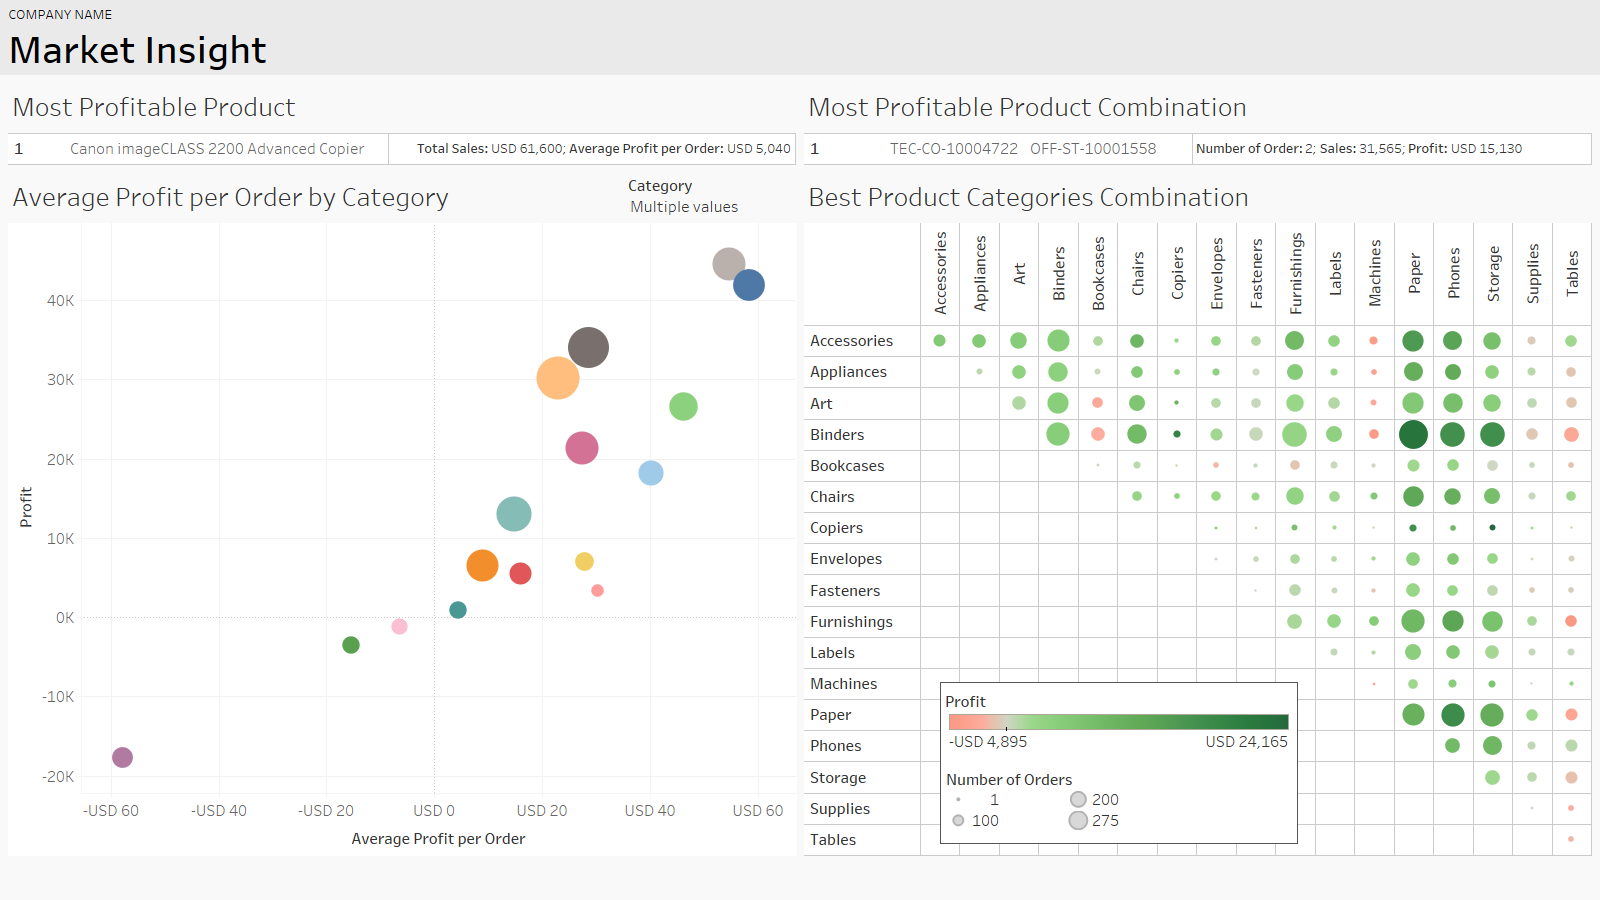

The page's visual inventory and layout, read from the dashboard file:
{"tool":"tableau","page":{"name":"Market Insight","canvas":[1600,900],"ordinal":1},"visuals":[{"type":"text","box":[0,0,1600,75]},{"type":"blank","box":[0,0,663.4,77.4]},{"type":"text","box":[663.4,0,836.3,77.4]},{"type":"blank","box":[1499.7,0,100.3,77.4]},{"type":"blank","box":[0,77.4,72.5,68]},{"type":"text","box":[72.5,77.4,1527.5,68]},{"type":"worksheet","title":"Most Profit Product","mark":"Automatic","rows":["Calculation_517632483394850828","SUBCATEGORY"],"box":[4,79,796,90]},{"type":"worksheet","title":"Most Profit Product Combination","mark":"Automatic","rows":["Least pair (copy)_155374188590964738","Calculation_155374188590628865"],"box":[800,79,796,90]},{"type":"blank","box":[0,145.5,1600,5.2]},{"type":"text","box":[0,150.7,400,83.7]},{"type":"text","box":[400,150.7,400,83.7]},{"type":"text","box":[800,150.7,400,83.7]},{"type":"text","box":[1200,150.7,400,83.7]},{"type":"worksheet","title":"Average Profit","mark":"Circle","rows":["PROFIT"],"cols":["Calculation_517632483394850828"],"box":[4,169,796,691]},{"type":"worksheet","title":"Product Category Combination","mark":"Circle","rows":["Calculation_155374188619853827"],"cols":["Greatest Pair Category (copy)_155374188620038148"],"box":[800,169,796,691]},{"type":"filter","title":"Average Profit","param":"[federated.0ukujvq0t6tfha15fncxn1vepaob].[none:CATEGORY:nk]","box":[628,174,168,45]},{"type":"blank","box":[0,234.4,1600,9.4]},{"type":"text","box":[0,243.8,800,306.6]},{"type":"text","box":[800,243.8,800,612.2]},{"type":"text","box":[884.3,415.5,693.3,155.9]},{"type":"text","box":[0,550.5,800,305.6]},{"type":"text","box":[884.3,571.4,693.3,68]},{"type":"text","box":[884.3,639.4,693.3,68]},{"type":"legend","title":"Product Category Combination","param":"[federated.0ukujvq0t6tfha15fncxn1vepaob (copy)].[sum:PROFIT:qk]","box":[941,683,356,80]},{"type":"text","box":[884.3,707.5,693.3,142.3]},{"type":"legend","title":"Product Category Combination","param":"[federated.0ukujvq0t6tfha15fncxn1vepaob (copy)].[ctd:ORDER_ID:qk]","box":[941,763,356,80]}]}

Visuals, with their boxes in screenshot pixels (x1, y1, x2, y2), scaled from the page's 1600x900 canvas onto the 1600x900 screenshot:
text: 0,0,1599,75
blank: 0,0,663,77
text: 663,0,1500,77
blank: 1500,0,1599,77
blank: 0,77,72,145
text: 72,77,1599,145
"Most Profit Product" worksheet: 4,79,800,169
"Most Profit Product Combination" worksheet: 800,79,1596,169
blank: 0,146,1599,151
text: 0,151,400,234
text: 400,151,800,234
text: 800,151,1200,234
text: 1200,151,1599,234
"Average Profit" worksheet (Circle marks): 4,169,800,860
"Product Category Combination" worksheet (Circle marks): 800,169,1596,860
"Average Profit" filter: 628,174,796,219
blank: 0,234,1599,244
text: 0,244,800,550
text: 800,244,1599,856
text: 884,416,1578,571
text: 0,550,800,856
text: 884,571,1578,639
text: 884,639,1578,707
"Product Category Combination" legend: 941,683,1297,763
text: 884,708,1578,850
"Product Category Combination" legend: 941,763,1297,843
